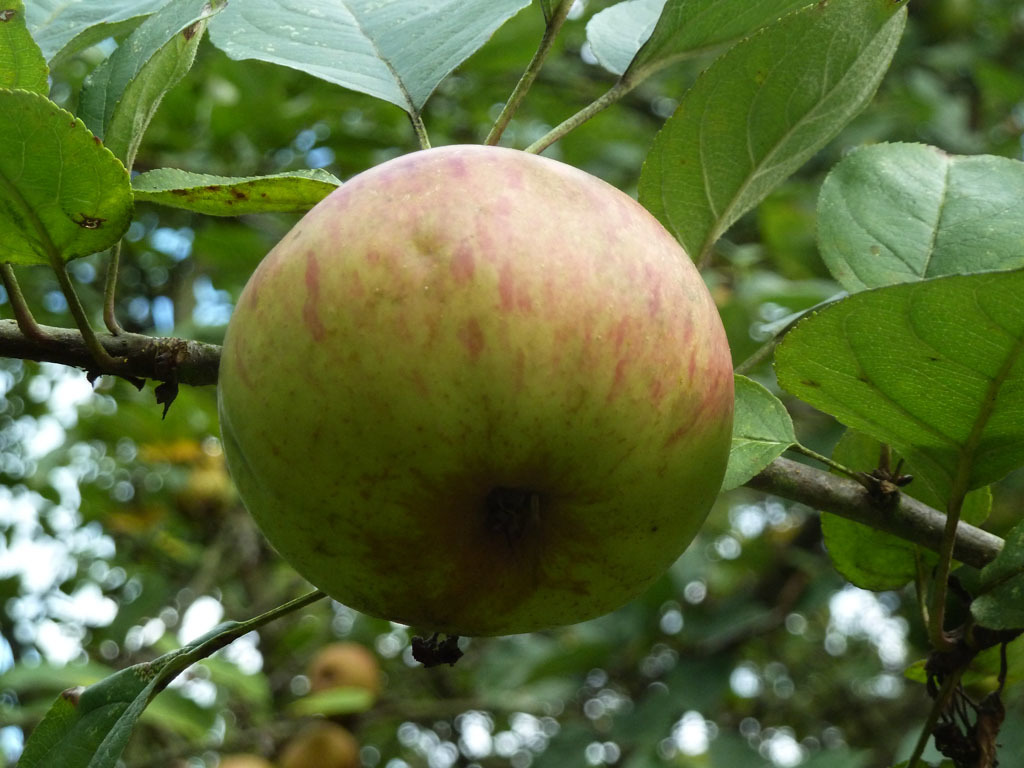Apple: (199, 134, 734, 675)
